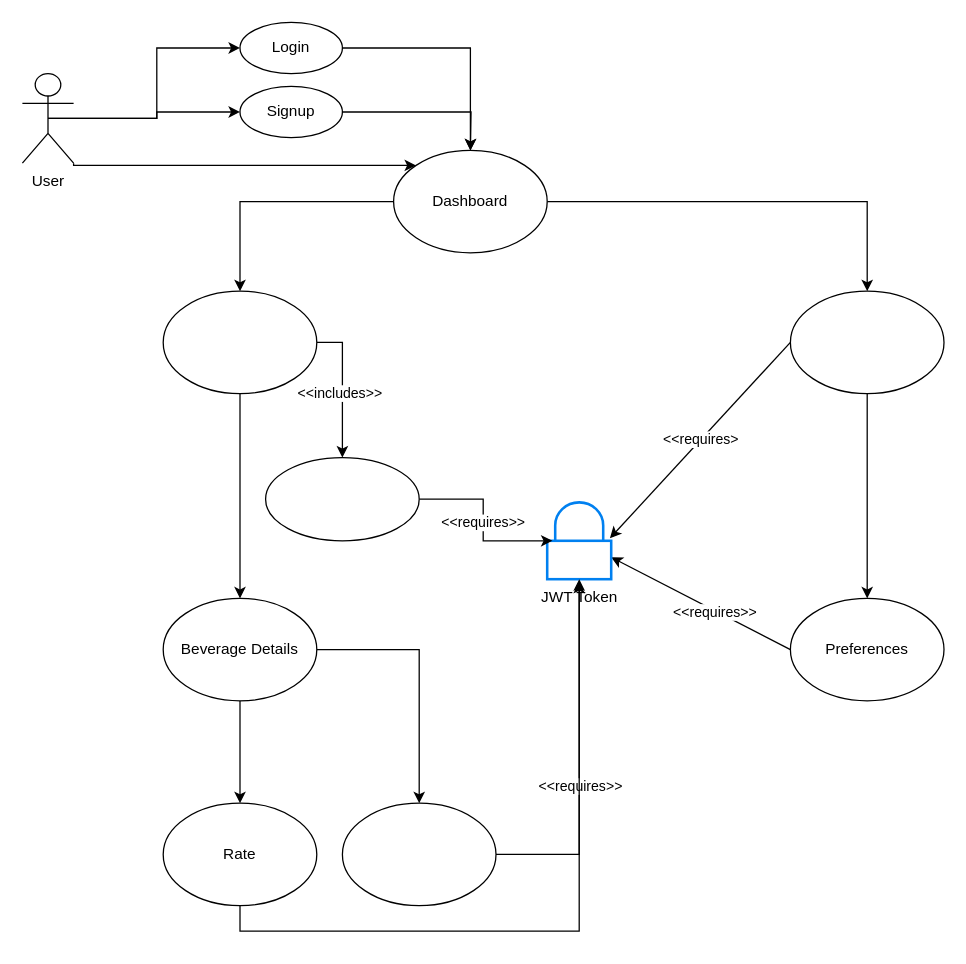
Image size: 966x964. Some labels were removed from this diagram. The shapes that lost their labels are listed below. From the top down, each one's centre as x and y in pixels, then its label:
At point (239, 342): "Beverage Listing".
At point (866, 342): "Profile".
At point (341, 498): "Recommandations based on preferences".
At point (418, 854): "Specify Preference".
